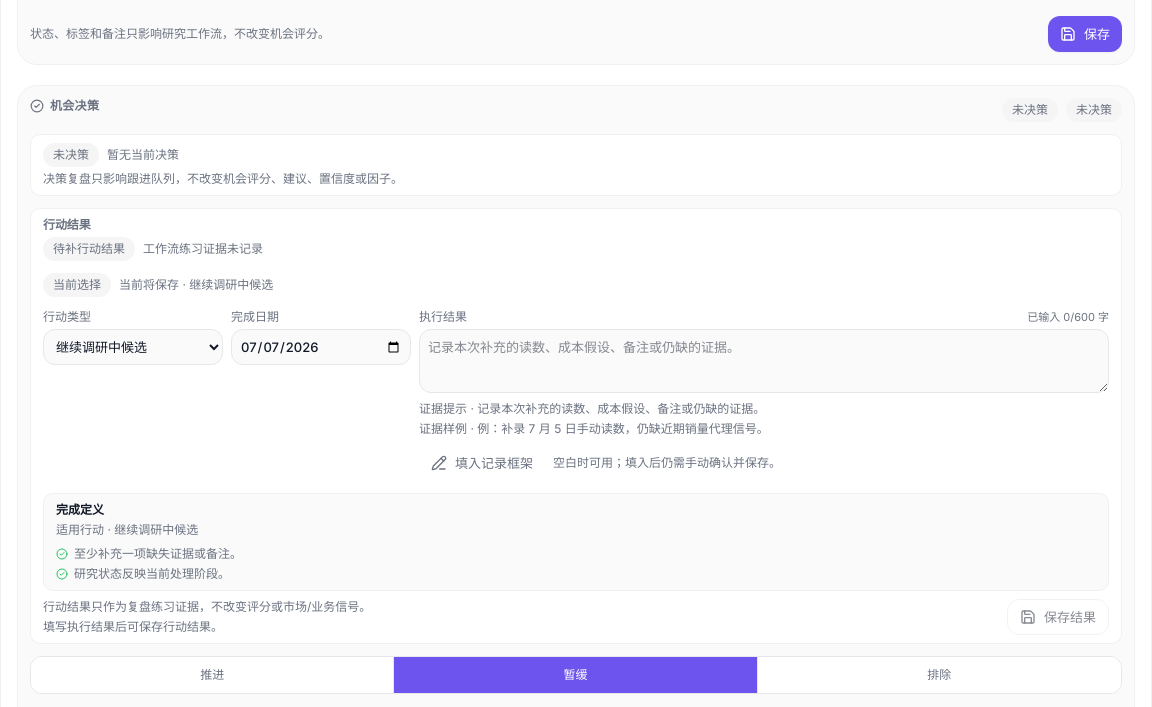
Test: Opportunities page › fills an action-specific outcome record frame without saving
The width and height of the screenshot is (1152, 707).
(page scrolled)
Select "补齐下一步行动" in the dropdown named "选择行动结果类型" at (133, 347), box x1=43 y1=329 x2=223 y2=365
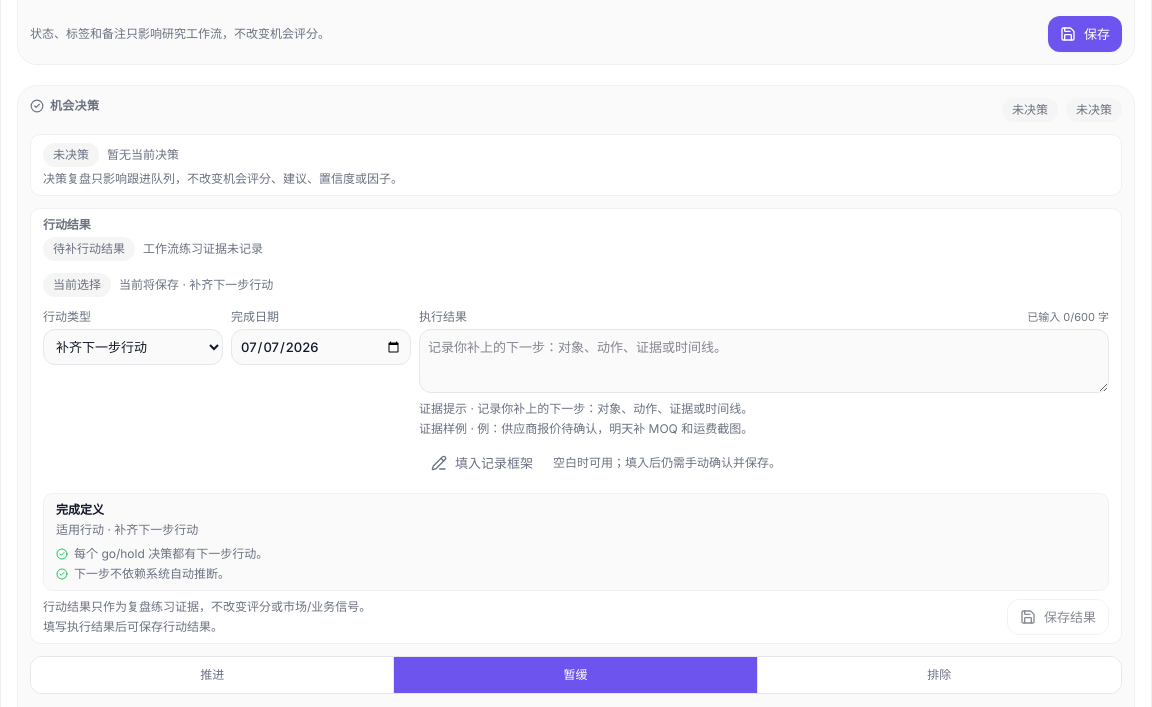
Click the button with aria-label "填入记录框架：补齐下一步行动".
click(482, 463)  # box x1=419 y1=445 x2=545 y2=481
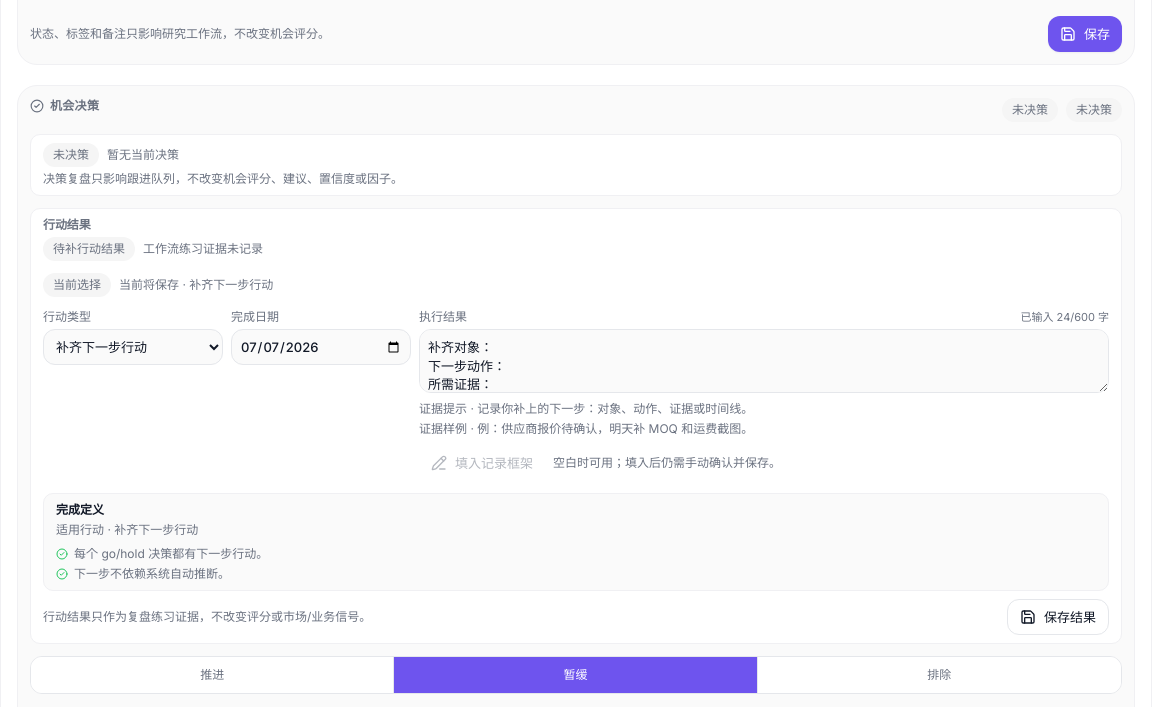
Check: the button with aria-label "填入记录框架：补齐下一步行动" is disabled, box x1=419 y1=445 x2=545 y2=481
